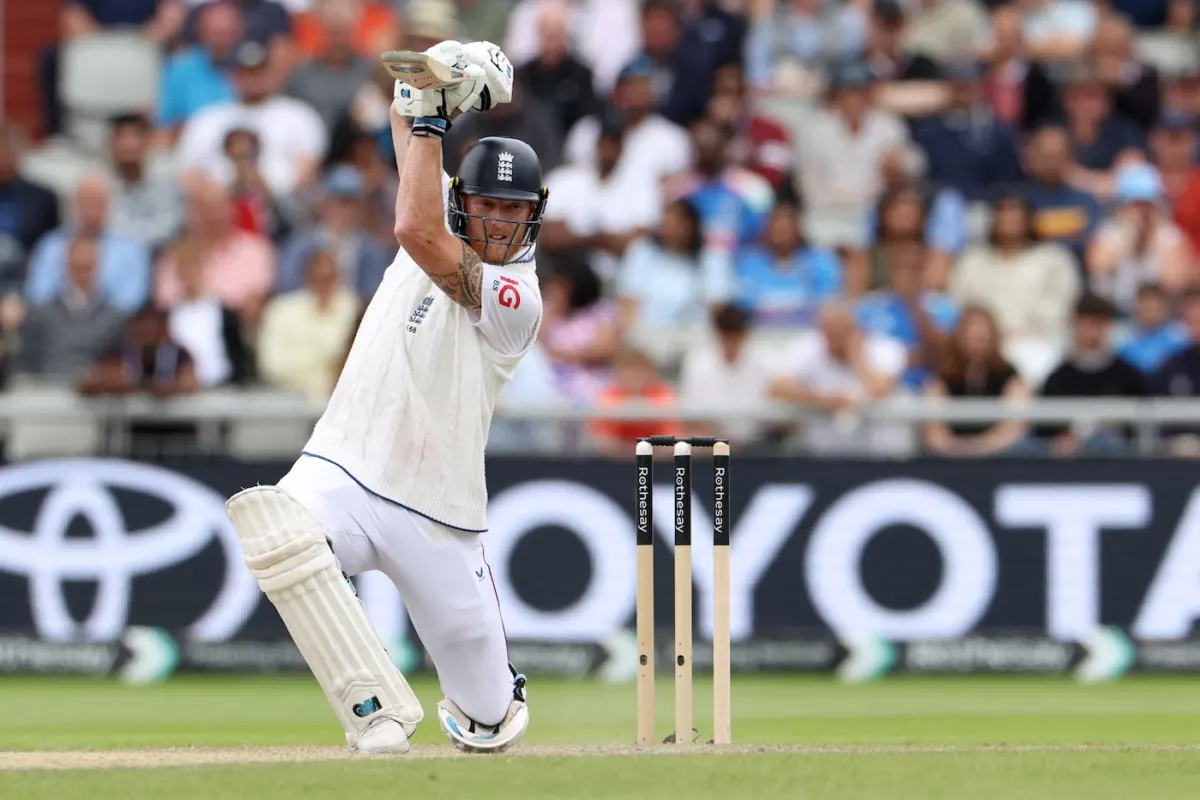Defence: (197, 2, 667, 800)
